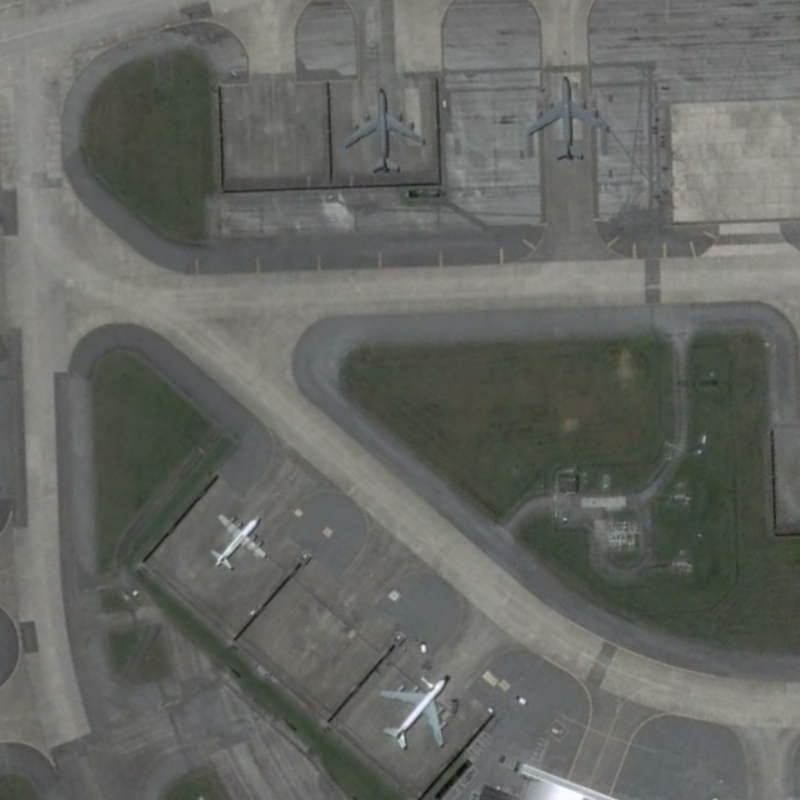A11: (372, 664, 459, 757)
A14: (522, 72, 615, 163), (339, 84, 430, 177)
A9: (205, 500, 274, 572)
